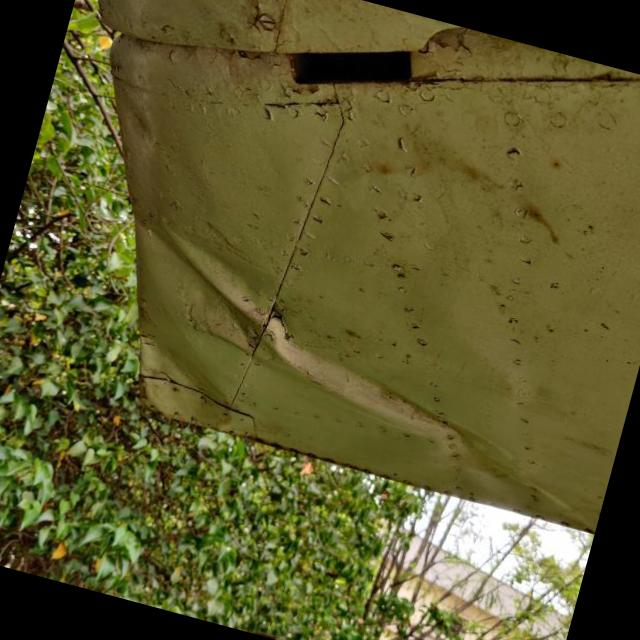Crack: (265, 306, 293, 334)
Dent: (137, 176, 602, 471), (142, 378, 254, 436)
